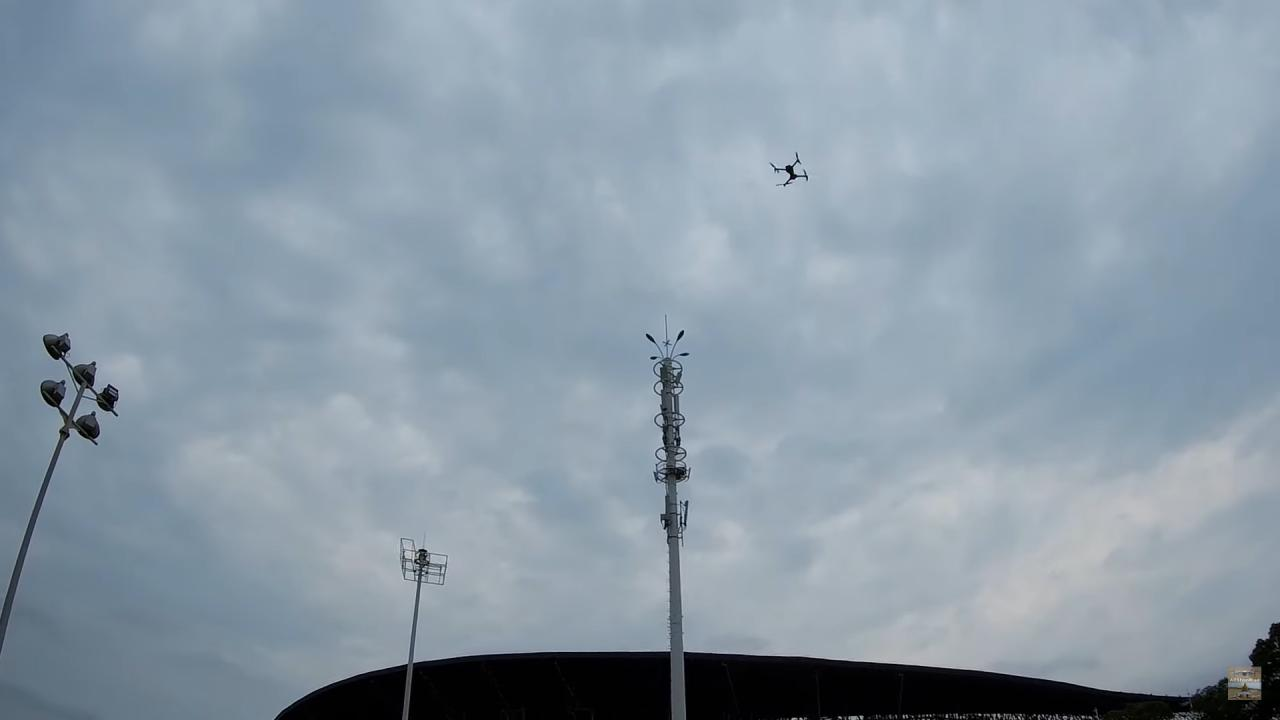Drone: (759, 144, 819, 197)
